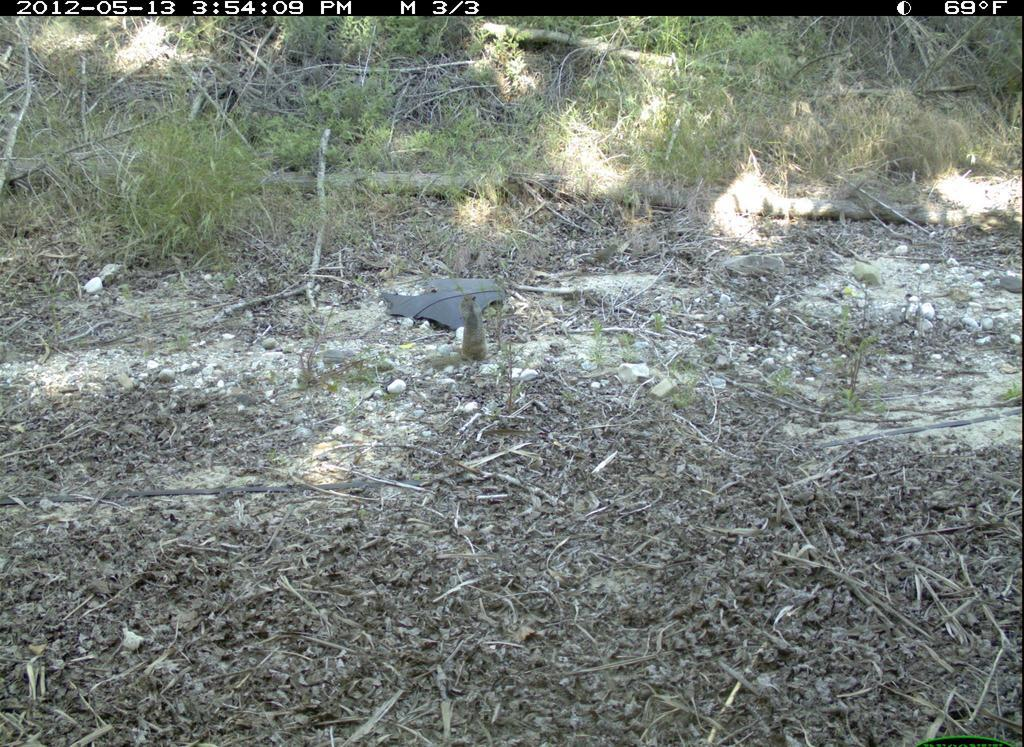squirrel: (443, 290, 504, 373)
